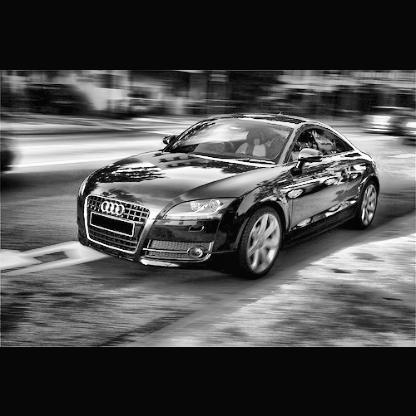Audi TTS Coupe 2012: (76, 114, 383, 283)
